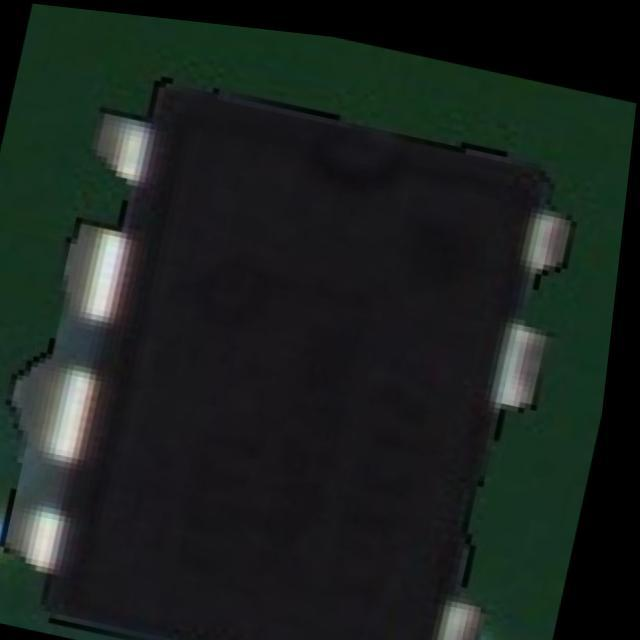IC: (0, 52, 603, 640)
